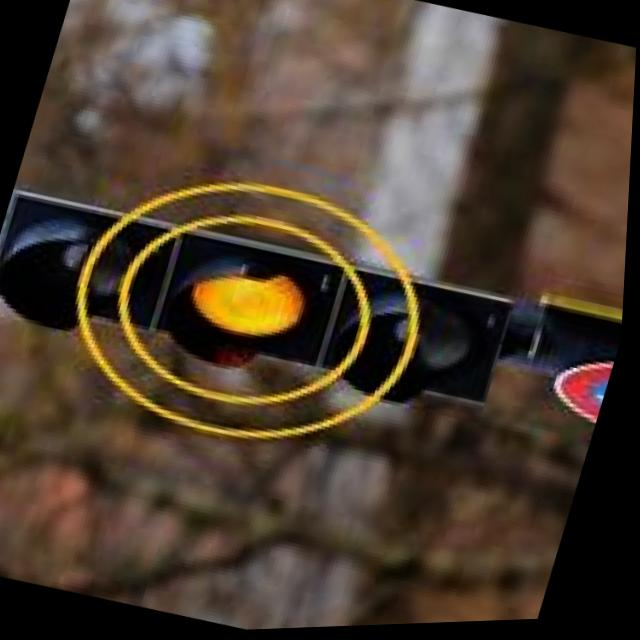yellow_light: (149, 166, 376, 427)
